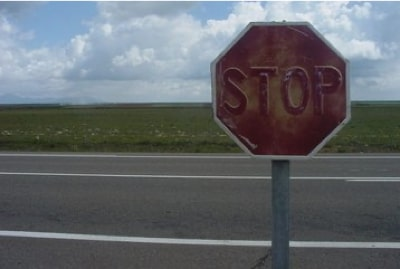StopSign: (209, 20, 353, 162)
